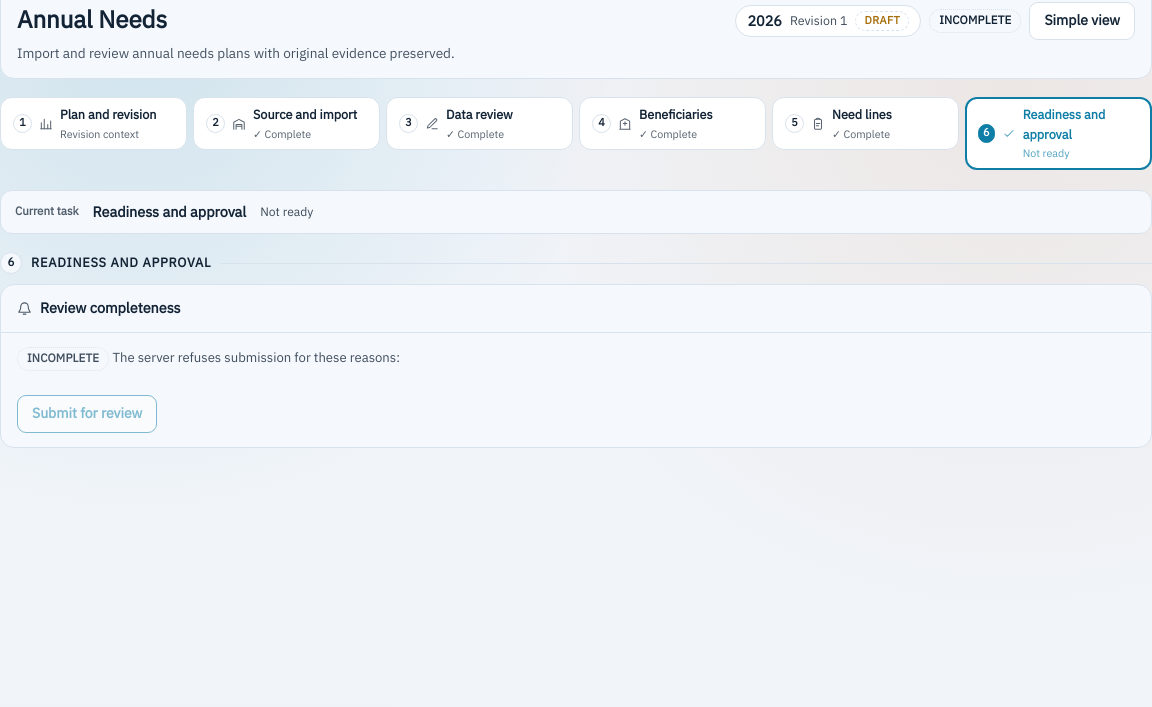
UX-2A — bulk disposition still previews before it confirms › requires a selection, a reason and an explicit count before confirm appears
The width and height of the screenshot is (1152, 707).
Click the button "3 Data review ✓ Complete". click: [480, 124]
box: [386, 97, 573, 150]
(page scrolled)
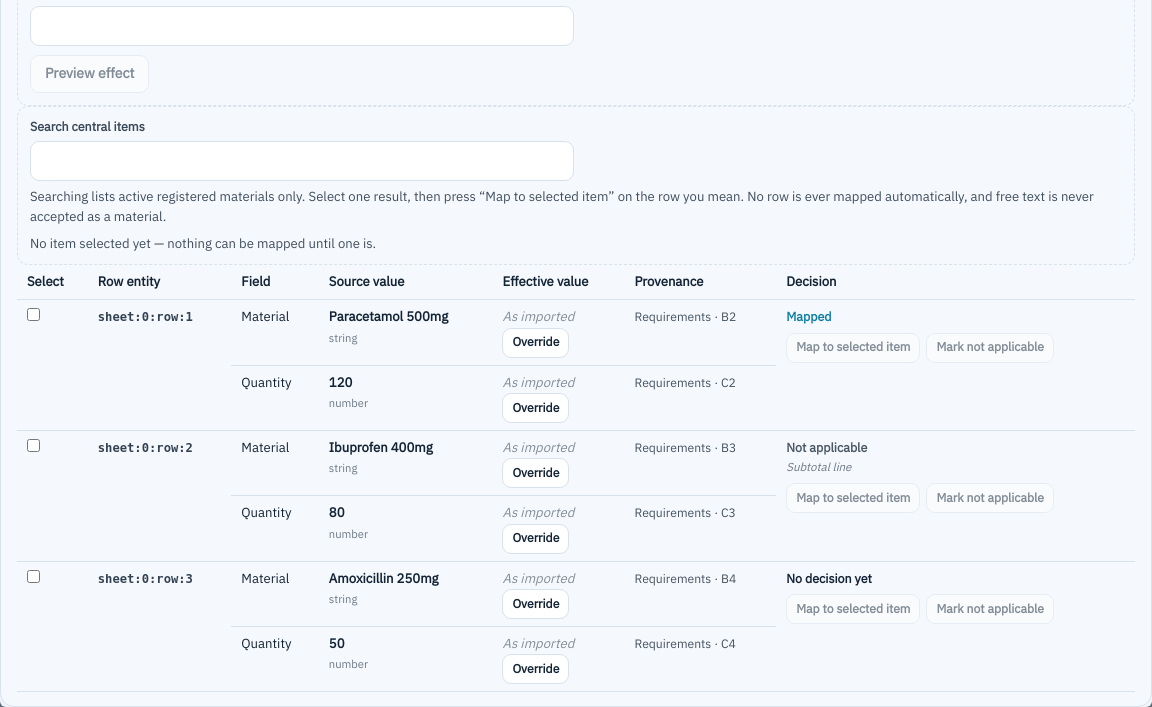
Expected: the button "Confirm and apply" is not shown
Now the button "Preview effect" is disabled, box [30, 55, 149, 93]
Click the checkbox named "sheet:0:row:3" next to "sheet:0:row:3". click: [34, 576]
box: [27, 570, 40, 583]
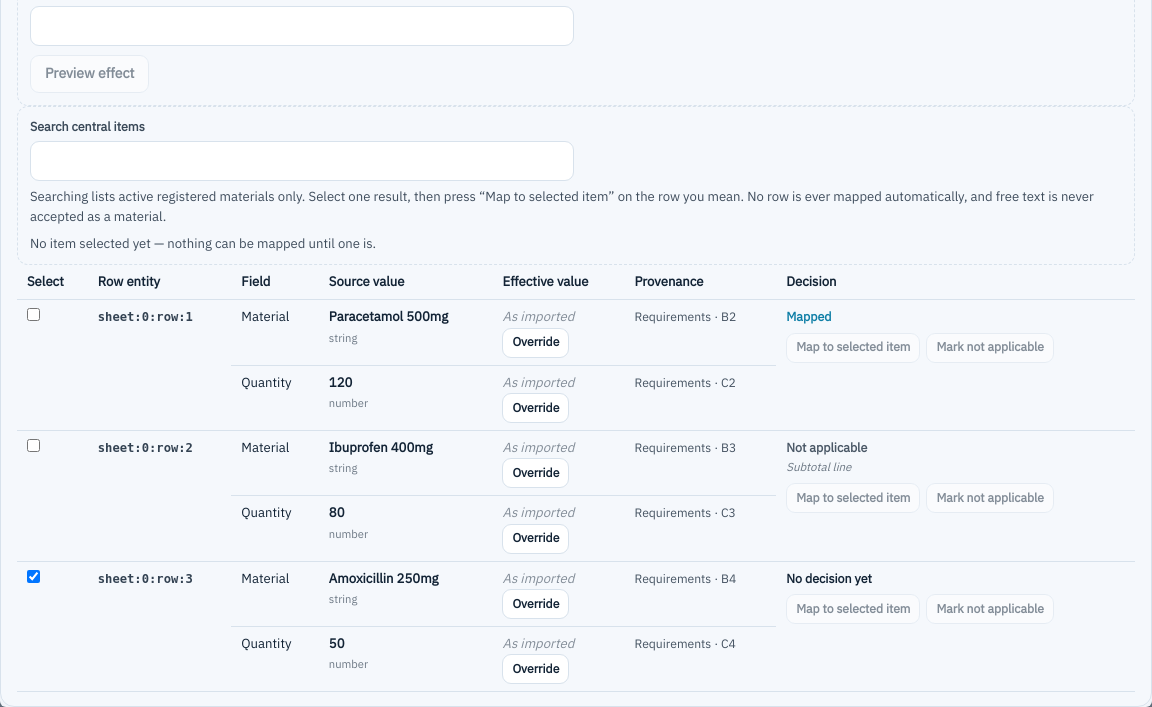
Type "Not a dispensable material" into the field labelled "Reason (required for not applicable)". click: [302, 26]
box: [30, 6, 574, 46]
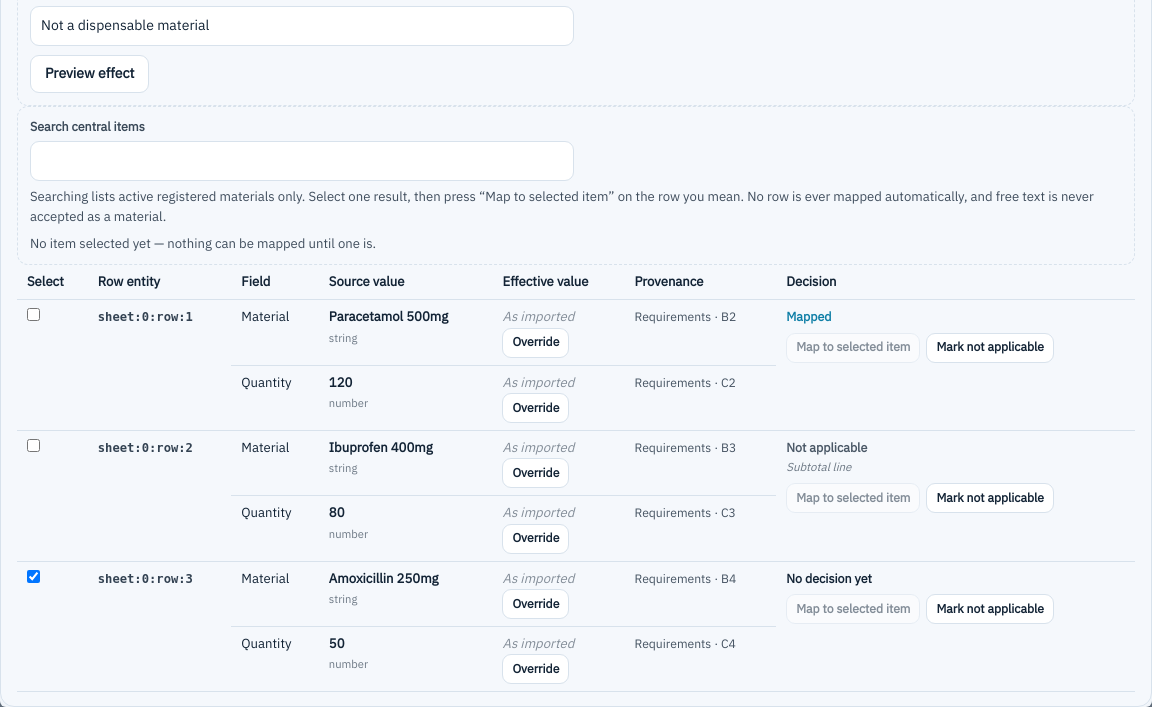
Expected: the button "Confirm and apply" is not shown
Now the button "Preview effect" is enabled
Click the button "Preview effect". click: [90, 74]
box: [30, 55, 149, 93]
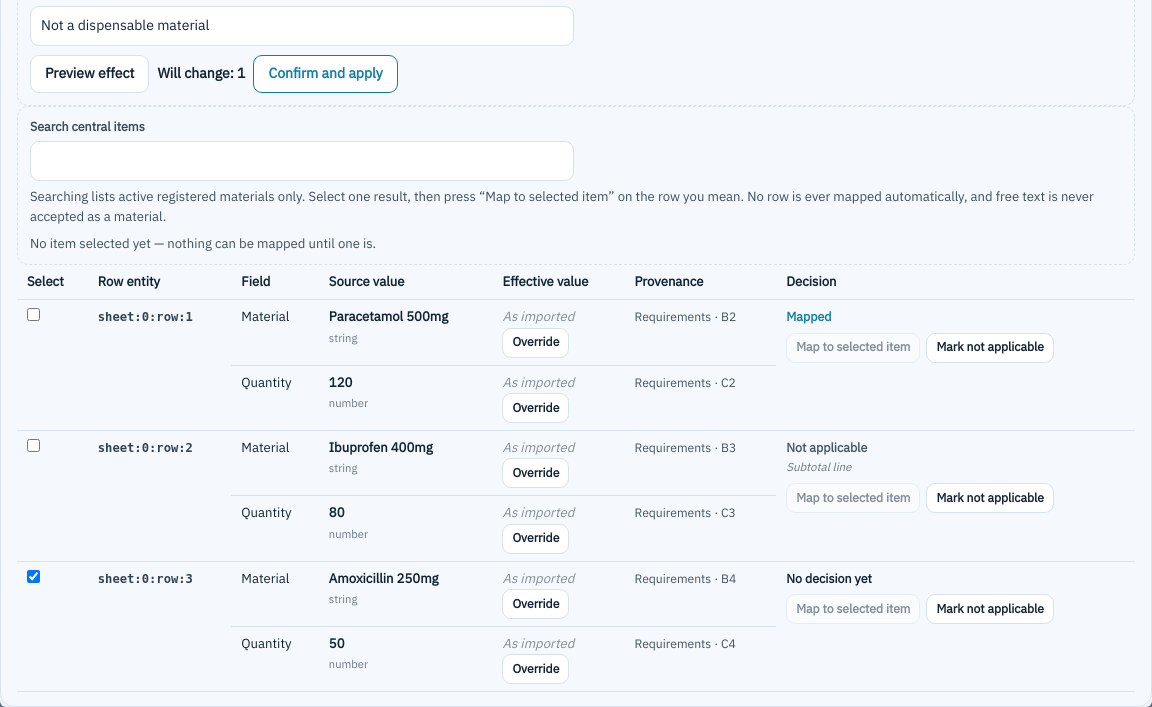
Now the button "Confirm and apply" is shown, box [254, 55, 398, 93]
